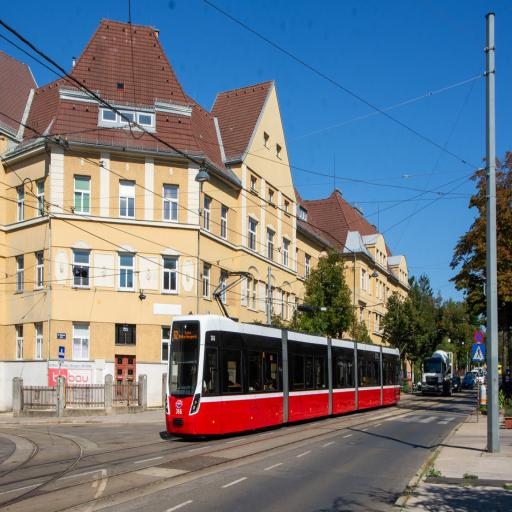Flexity: (164, 308, 400, 436)
